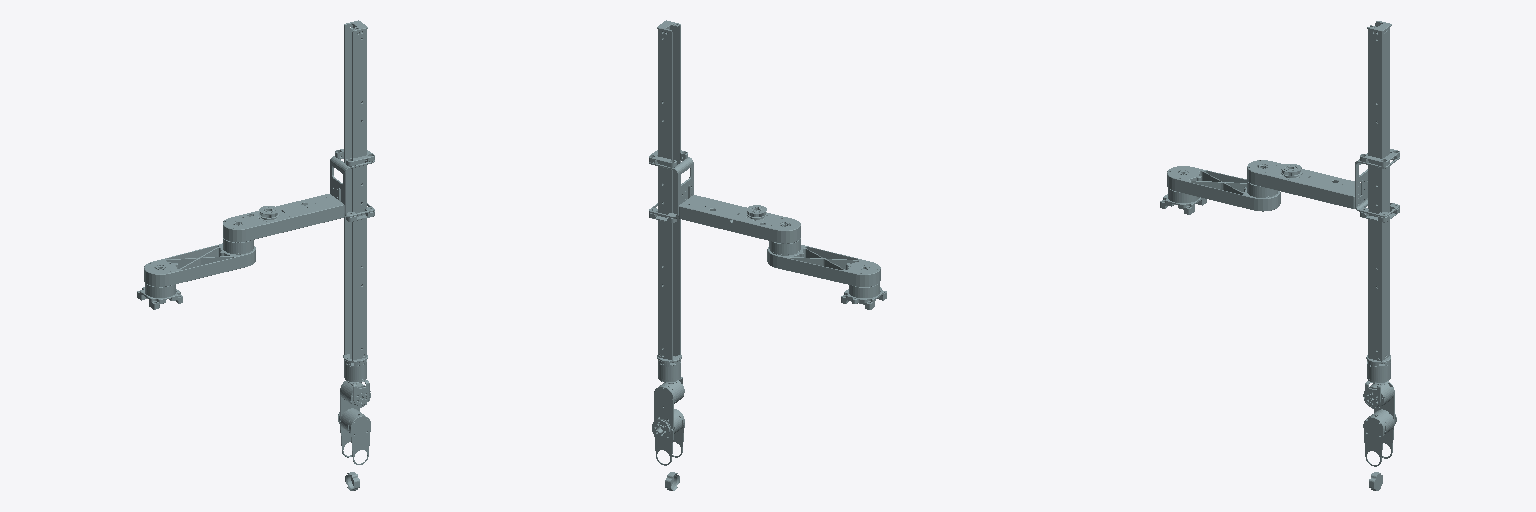
URDF robot description (v6):
<?xml version="1.0" encoding="utf-8"?>
<!-- This URDF was automatically created by SolidWorks to URDF Exporter! Originally created by Stephen Brawner (brawner@gmail.com) 
     Commit Version: 1.6.0-4-g7f85cfe  Build Version: 1.6.7995.38578
     For more information, please see http://wiki.ros.org/sw_urdf_exporter -->
<robot
  name="v6">
  <link
    name="base_link">
    <inertial>
      <origin
        xyz="-1.09413233489175E-05 0.000509915045754004 -0.0495601752017961"
        rpy="0 0 0" />
      <mass
        value="0.241260047091222" />
      <inertia
        ixx="0.000145828053491102"
        ixy="7.60167987523281E-08"
        ixz="-2.08202943905022E-08"
        iyy="0.000140686470620761"
        iyz="-2.08066422990021E-07"
        izz="0.000207227700956719" />
    </inertial>
    <visual>
      <origin
        xyz="0 0 0"
        rpy="0 0 0" />
      <geometry>
        <mesh
          filename="package://6-8-2/meshes/0.STL" />
      </geometry>
      <material
        name="">
        <color
          rgba="0.592156862745098 0.666666666666667 0.682352941176471 1" />
      </material>
    </visual>
    <collision>
      <origin
        xyz="0 0 0"
        rpy="0 0 0" />
      <geometry>
        <mesh
          filename="package://6-8-2/meshes/0.STL" />
      </geometry>
    </collision>
  </link>
  <link
    name="1">
    <inertial>
      <origin
        xyz="0.1709148141745 0.00203191935056902 0.0010856361825733"
        rpy="0 0 0" />
      <mass
        value="1.3003" />
      <inertia
        ixx="0.000299921228432388"
        ixy="-2.27288085275006E-05"
        ixz="1.46489138781864E-05"
        iyy="0.00196481761971514"
        iyz="1.97673730032081E-07"
        izz="0.00213400487926184" />
    </inertial>
    <visual>
      <origin
        xyz="0 0 0"
        rpy="0 0 0" />
      <geometry>
        <mesh
          filename="package://6-8-2/meshes/1.STL" />
      </geometry>
      <material
        name="">
        <color
          rgba="0.592156862745098 0.666666666666667 0.682352941176471 1" />
      </material>
    </visual>
    <collision>
      <origin
        xyz="0 0 0"
        rpy="0 0 0" />
      <geometry>
        <mesh
          filename="package://6-8-2/meshes/1.STL" />
      </geometry>
    </collision>
  </link>
  <joint
    name="joint1"
    type="revolute">
    <origin
      xyz="0 0 0"
      rpy="0 0 0" />
    <parent
      link="base_link" />
    <child
      link="1" />
    <axis
      xyz="0 0 1" />
    <limit
      lower="-4.45058959"
      upper="1.30899694"
      effort="0"
      velocity="0" />
  </joint>
  <link
    name="2">
    <inertial>
      <origin
        xyz="0.0952661469489989 -0.00023116728096605 -0.00102314750787608"
        rpy="0 0 0" />
      <mass
        value="1.200" />
      <inertia
        ixx="0.000397605917515822"
        ixy="1.22481224722955E-06"
        ixz="-2.5470464113082E-06"
        iyy="0.00241221184551601"
        iyz="1.97926793963918E-07"
        izz="0.00244917411870489" />
    </inertial>
    <visual>
      <origin
        xyz="0 0 0"
        rpy="0 0 0" />
      <geometry>
        <mesh
          filename="package://6-8-2/meshes/2.STL" />
      </geometry>
      <material
        name="">
        <color
          rgba="0.592156862745098 0.666666666666667 0.682352941176471 1" />
      </material>
    </visual>
    <collision>
      <origin
        xyz="0 0 0"
        rpy="0 0 0" />
      <geometry>
        <mesh
          filename="package://6-8-2/meshes/2.STL" />
      </geometry>
    </collision>
  </link>
  <joint
    name="joint2"
    type="revolute">
    <origin
      xyz="0.21998 0.003 0.0665"
      rpy="0 0 0" />
    <parent
      link="1" />
    <child
      link="2" />
    <axis
      xyz="0 0 1" />
    <limit
      lower="-2.87979327"
      upper=" 2.87979327"
      effort="0"
      velocity="0" />
  </joint>
  <link
    name="3">
    <inertial>
      <origin
        xyz="0.00448496806744692 0.000932023162146932 -0.53144673946589"
        rpy="0 0 0" />
      <mass
        value="0.399245541068879" />
      <inertia
        ixx="0.0243851737123956"
        ixy="6.54686920957428E-06"
        ixz="6.68445806504872E-07"
        iyy="0.02435903658548"
        iyz="-4.32799330272258E-07"
        izz="0.000137661242067705" />
    </inertial>
    <visual>
      <origin
        xyz="0 0 0"
        rpy="0 0 0" />
      <geometry>
        <mesh
          filename="package://6-8-2/meshes/3.STL" />
      </geometry>
      <material
        name="">
        <color
          rgba="0.592156862745098 0.666666666666667 0.682352941176471 1" />
      </material>
    </visual>
    <collision>
      <origin
        xyz="0 0 0"
        rpy="0 0 0" />
      <geometry>
        <mesh
          filename="package://6-8-2/meshes/3.STL" />
      </geometry>
    </collision>
  </link>
  <joint
    name="joint3"
    type="prismatic">
    <origin
      xyz="0.32645 -0.0041531 -0.52985"
      rpy="-3.1416 0 0" />
    <parent
      link="2" />
    <child
      link="3" />
    <axis
      xyz="0 0 1" />
    <limit
      lower="-0.38"
      upper="0.34"
      effort="0"
      velocity="0" />
  </joint>
  <link
    name="4">
    <inertial>
      <origin
        xyz="-4.30917308105183E-05 -0.00129573028113173 -0.0613005741643903"
        rpy="0 0 0" />
      <mass
        value="0.405" />
      <inertia
        ixx="4.23684797378761E-05"
        ixy="1.00173643489803E-07"
        ixz="1.27456204475035E-08"
        iyy="4.13378316626957E-05"
        iyz="2.48424997862657E-06"
        izz="5.14358991422176E-05" />
    </inertial>
    <visual>
      <origin
        xyz="0 0 0"
        rpy="0 0 0" />
      <geometry>
        <mesh
          filename="package://6-8-2/meshes/4.STL" />
      </geometry>
      <material
        name="">
        <color
          rgba="0.592156862745098 0.666666666666667 0.682352941176471 1" />
      </material>
    </visual>
    <collision>
      <origin
        xyz="0 0 0"
        rpy="0 0 0" />
      <geometry>
        <mesh
          filename="package://6-8-2/meshes/4.STL" />
      </geometry>
    </collision>
  </link>
  <joint
    name="joint4"
    type="revolute">
    <origin
      xyz="0 0 0"
      rpy="0 0 3.1415926" />
    <parent
      link="3" />
    <child
      link="4" />
    <axis
      xyz="0 0 1" />
    <limit
      lower="-3.0"
      upper="3.0"
      effort="0"
      velocity="0" />
  </joint>
  <link
    name="5">
    <inertial>
      <origin
        xyz="0.080 2.22979091916153E-05 0.00516185754061253"
        rpy="0 0 0" />
      <mass
        value="0.6968" />
      <inertia
        ixx="7.29662562944397E-05"
        ixy="3.83292793640536E-07"
        ixz="-2.19298624001026E-07"
        iyy="0.000155028982930634"
        iyz="2.89976974189107E-08"
        izz="0.000189903165887437" />
    </inertial>
    <visual>
      <origin
        xyz="0 0 0"
        rpy="0 0 0" />
      <geometry>
        <mesh
          filename="package://6-8-2/meshes/5.STL" />
      </geometry>
      <material
        name="">
        <color
          rgba="0.592156862745098 0.666666666666667 0.682352941176471 1" />
      </material>
    </visual>
    <collision>
      <origin
        xyz="0 0 0"
        rpy="0 0 0" />
      <geometry>
        <mesh
          filename="package://6-8-2/meshes/5.STL" />
      </geometry>
    </collision>
  </link>
  <joint
    name="joint5"
    type="revolute">
    <origin
      xyz="0 0 0"
      rpy="-1.5708 -1.5708 0.0" />
    <parent
      link="4" />
    <child
      link="5" />
    <axis
      xyz="0 0 1" />
    <limit
      lower="-1.60"
      upper="2.0"
      effort="0"
      velocity="0" />
  </joint>
  <link
    name="6">
    <inertial>
      <origin
        xyz="-0.0607245851771876 2.08717500649325E-06 0.0416980372035"
        rpy="0 0 0" />
      <mass
        value="0.253" />
      <inertia
        ixx="0.000133449097519318"
        ixy="1.20079816249405E-08"
        ixz="4.06750861834893E-07"
        iyy="8.31898250900969E-05"
        iyz="1.79884843328217E-08"
        izz="7.8928771759161E-05" />
    </inertial>
    <visual>
      <origin
        xyz="0 0 0"
        rpy="0 0 0" />
      <geometry>
        <mesh
          filename="package://6-8-2/meshes/6.STL" />
      </geometry>
      <material
        name="">
        <color
          rgba="0.592156862745098 0.666666666666667 0.682352941176471 1" />
      </material>
    </visual>
    <collision>
      <origin
        xyz="0 0 0"
        rpy="0 0 0" />
      <geometry>
        <mesh
          filename="package://6-8-2/meshes/6.STL" />
      </geometry>
    </collision>
  </link>
  <joint
    name="joint6"
    type="revolute">
    <origin
      xyz="0.15995 0.00012078 0.043691"
      rpy="3.1416 0 3.1416" />
    <parent
      link="5" />
    <child
      link="6" />
    <axis
      xyz="0 0 -1" />
    <limit
      lower="-1.5707"
      upper="1.5707"
      effort="0"
      velocity="0" />
  </joint>
  <link
    name="tool">
    <inertial>
      <origin
        xyz="-0.000250173316611681 0.000120710497693299 -0.00607273429288668"
        rpy="0 0 0" />
      <mass
        value="0.00978578010660115" />
      <inertia
        ixx="1.91264066999569E-06"
        ixy="-1.38401817974931E-18"
        ixz="3.58466817522E-14"
        iyy="1.91264067000788E-06"
        iyz="-1.26884058006926E-12"
        izz="3.42119965081875E-06" />
    </inertial>
    <visual>
      <origin
        xyz="0 0 0"
        rpy="0 0 0" />
      <geometry>
        <mesh
          filename="package://6-8-2/meshes/tool.STL" />
      </geometry>
      <material
        name="">
        <color
          rgba="0.592156862745098 0.666666666666667 0.682352941176471 1" />
      </material>
    </visual>
    <collision>
      <origin
        xyz="0 0 0"
        rpy="0 0 0" />
      <geometry>
        <mesh
          filename="package://6-8-2/meshes/tool.STL" />
      </geometry>
    </collision>
  </link>
  <joint
    name="tool"
    type="fixed">
    <origin
      xyz="-0.075 -0.00012078 0.043691"
      rpy="-1.5708 0.0 3.1415926" />
    <parent
      link="6" />
    <child
      link="tool" />
    <axis
      xyz="0 0 0" />
  </joint>
</robot>

--- What the picture shows (computed from the rendered views, not written in the file) ---
The picture shows the robot from 3 angles, left to right: view 1: azimuth 30°, elevation 25°; view 2: azimuth 150°, elevation 25°; view 3: azimuth 330°, elevation 25°; orthographic projection.
Robot: v6 — 8 links, 7 joints (5 revolute, 1 prismatic, 1 fixed); root link base_link; default pose: all joints at 0.
Visible links, largest first — view 1: 3, 2, 1, 5, 4, base_link; view 2: 3, 2, 1, 5, base_link; view 3: 3, 2, 1, 5, 4, base_link.
Link boxes in pixels (x1,y1,x2,y2): 3: [343, 20, 367, 362]; 2: [223, 149, 374, 242]; 1: [144, 238, 255, 286]; 5: [338, 381, 370, 464]; 4: [344, 360, 369, 405]; base_link: [137, 283, 182, 309]; 3: [657, 20, 681, 362]; 2: [649, 150, 800, 243]; 1: [767, 238, 880, 286]; 5: [652, 381, 684, 465]; base_link: [841, 283, 886, 309]; 3: [1366, 21, 1391, 363]; 2: [1247, 149, 1399, 222]; 1: [1167, 166, 1280, 211]; 5: [1363, 381, 1396, 466]; 4: [1365, 360, 1390, 406]; base_link: [1160, 188, 1206, 214].
Bounding box of the posed robot: 0.6264 × 0.094 × 1.24 m (x, y, z).
7 mesh visuals loaded from 8 distinct referenced files (7 binary STL); not drawn: 1 (reference not matched to a file when rendering).
